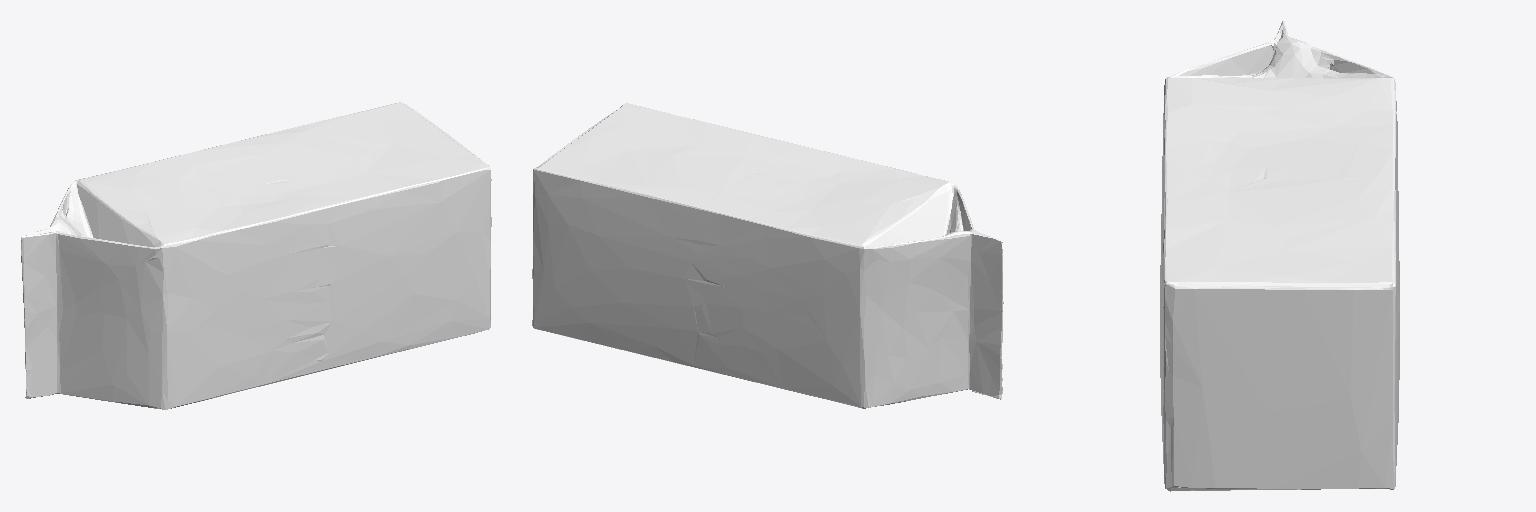
robot.urdf — object:
<?xml version="1.0" ?>
<robot name="object">
  <link name="OrangeJuice">
    <contact>
      <friction_anchor/>
      <lateral_friction value="0.5"/>
      <contact_cfm value="0.0"/>
      <contact_erp value="1.0"/>
    </contact>
    <inertial>
       <origin rpy="0 0 0" xyz="0.0 -0.00 -0.00"/>
       <mass value=".411"/>
       <inertia ixx="0" ixy="0" ixz="0" iyy="0" iyz="0" izz="0"/>
    </inertial>
    <visual>
      <geometry>
        <mesh filename="textured_simple.obj" scale="0.01 0.01 0.01"/>
      </geometry>
      <material name="white">
        <color rgba="1. 1. 1. 1."/>
      </material>
    </visual>
  </link>
  
  <link name="fake">
    <visual>
      <geometry>
        <box size="0.0001 0.0001 0.0001"/>
      </geometry>
      <origin rpy="0 0 0" xyz="0 0 -0.0"/>
    </visual>
   </link>
   
   <joint name="fake_2_OrangeJuice" type="fixed">
     <parent link="fake"/>
     <child link="OrangeJuice"/>
     <origin xyz="0.0 0.0 0.0" rpy="0.0 -1.5707963 1.5707963"/>
   </joint>
   
</robot>

--- Facts derived from the render (not from the file) ---
The picture shows the robot from 3 angles, left to right: view 1: azimuth 30°, elevation 25°; view 2: azimuth 150°, elevation 25°; view 3: azimuth 270°, elevation 25°; orthographic projection.
Model object with 2 links and 1 joints (1 fixed), rooted at fake, posed all joints at 0.
Links seen in each view (by area): view 1: OrangeJuice; view 2: OrangeJuice; view 3: OrangeJuice.
Link boxes in pixels (<box>): OrangeJuice: <box>21,102,491,409</box>; OrangeJuice: <box>532,103,1003,408</box>; OrangeJuice: <box>1160,21,1399,491</box>.
Size in the robot's own frame: 0.1925 by 0.0728 by 0.0715 metres.
Meshes: 1 distinct files referenced, 1 mesh visuals loaded (1 OBJ).